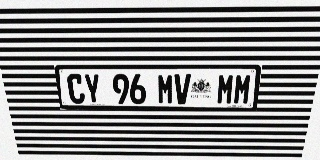6: (129, 74, 146, 104)
9: (112, 74, 130, 104)
C: (66, 74, 86, 104)
M: (216, 74, 235, 104), (233, 74, 252, 104), (157, 74, 174, 104)
V: (174, 74, 191, 104)
Y: (83, 74, 102, 104)
